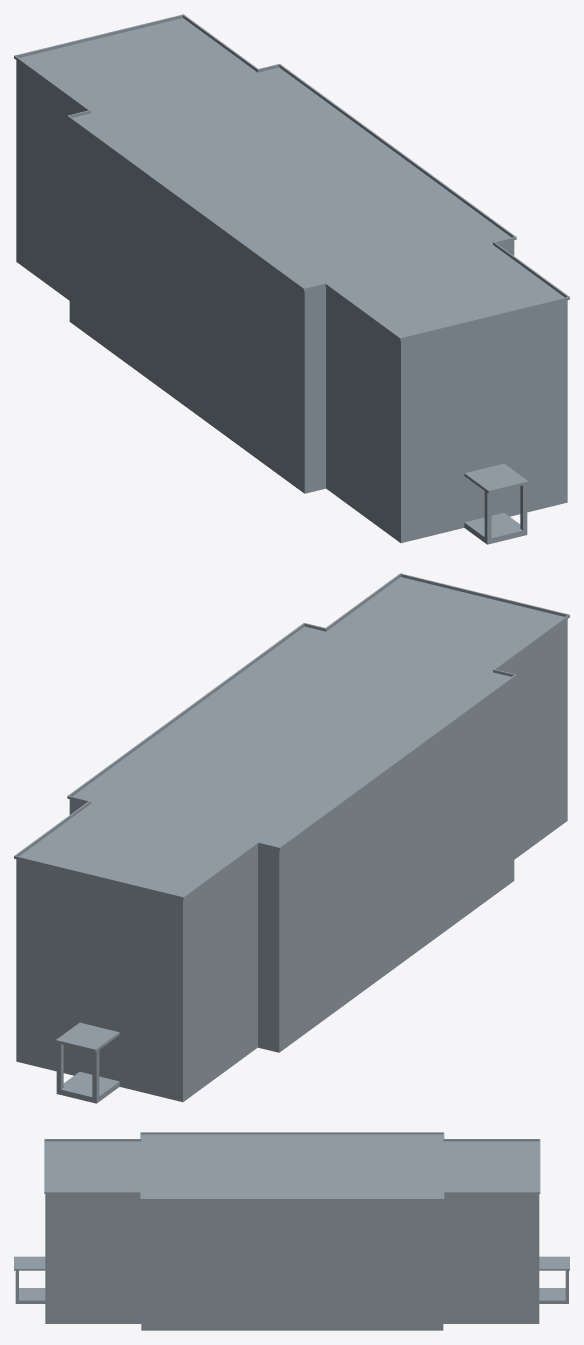
The model's file is noble.glb.
3 renders of one model, top to bottom at view 1: azimuth 30°, elevation 25°; view 2: azimuth 150°, elevation 25°; view 3: azimuth 270°, elevation 25°, orthographic. The views are drawn at different scales.
Parts seen in each view (by area): view 1: noble.002; view 2: noble.002; view 3: noble.002.
Part boxes in pixels (x1,y1,x2,y2): noble.002: (14,14,569,544); noble.002: (14,573,569,1103); noble.002: (14,1132,569,1330).
Bounding box in the file's own units: 575 × 532 × 2027.
